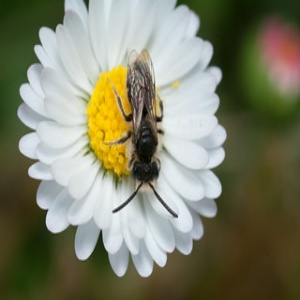bee: (104, 48, 184, 221)
